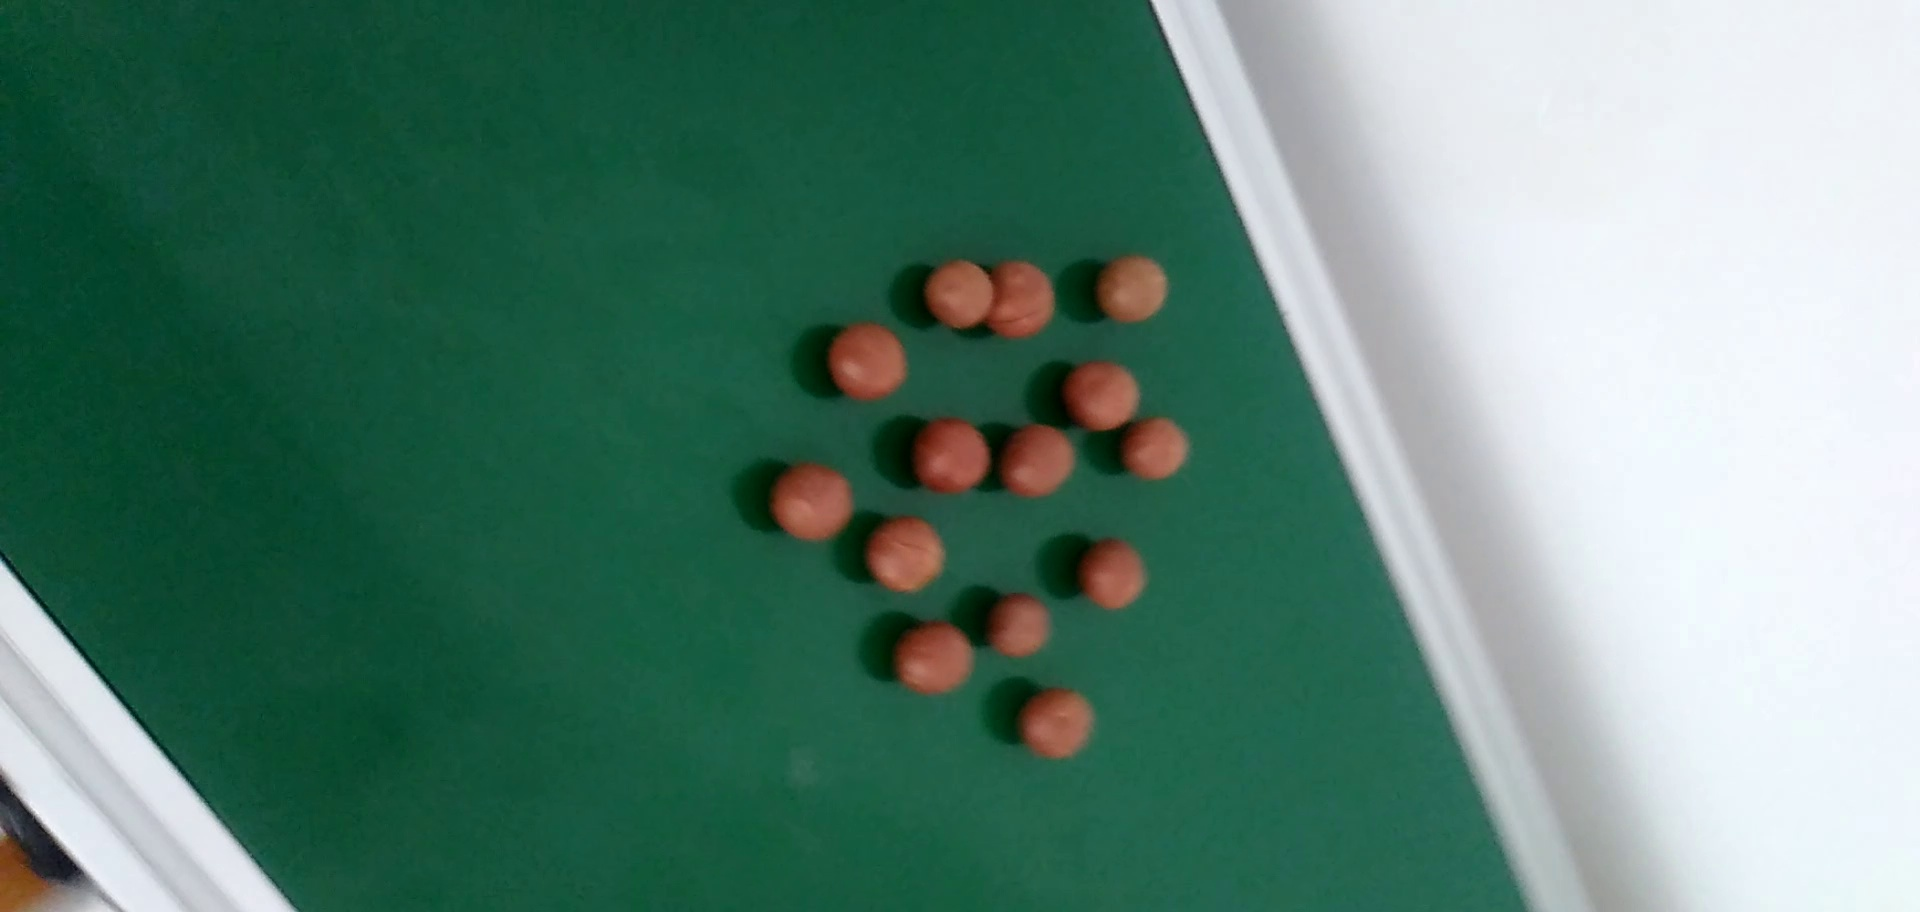mac: (773, 465, 855, 540), (828, 321, 906, 398), (915, 413, 988, 492), (981, 262, 1057, 337), (872, 520, 948, 594), (1067, 357, 1141, 428), (896, 624, 973, 692), (1081, 536, 1151, 610), (1007, 422, 1074, 495), (1097, 257, 1169, 323), (1122, 415, 1194, 481), (931, 257, 993, 327), (1026, 692, 1095, 754), (991, 591, 1051, 656)
